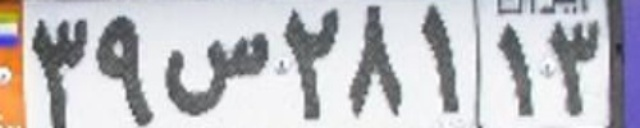1: (418, 4, 461, 111), (495, 24, 534, 115)
2: (279, 6, 337, 120)
3: (31, 16, 85, 127), (547, 19, 602, 115)
8: (348, 5, 400, 116)
9: (98, 14, 155, 125)
sin: (161, 32, 267, 115)
